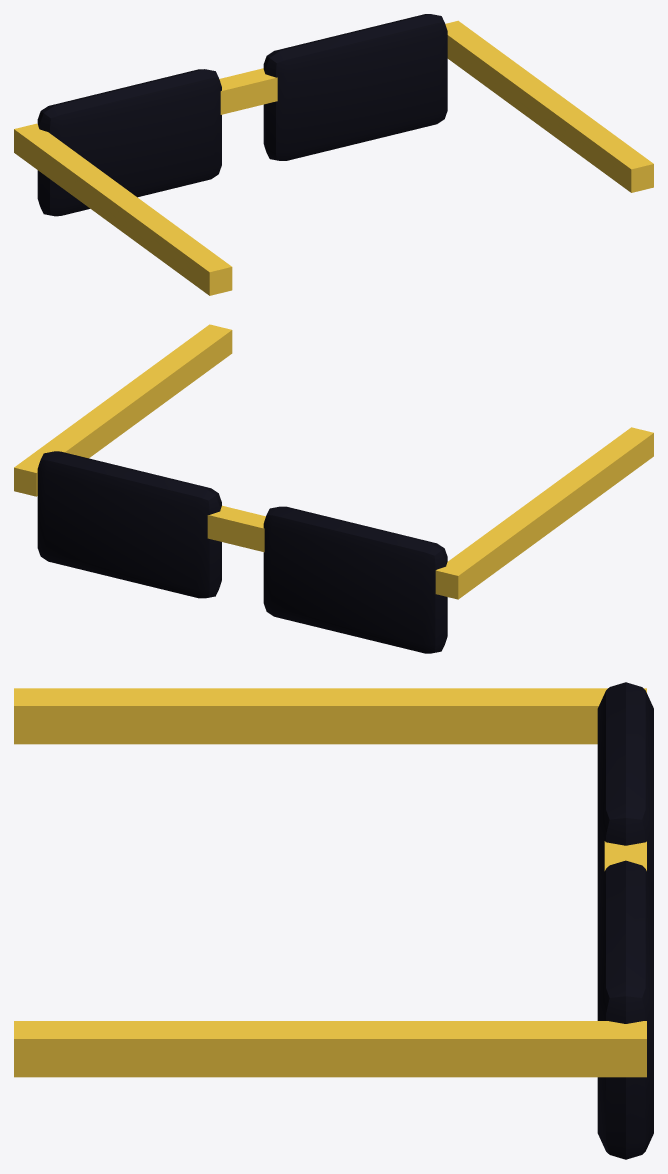
The model's file is AccShades.fbx.
3 views of the same model, one above another, from view 1: azimuth 30°, elevation 25°; view 2: azimuth 150°, elevation 25°; view 3: azimuth 270°, elevation 25° (orthographic). The views are drawn at different scales.
Visible parts, largest first — view 1: AccShades; view 2: AccShades; view 3: AccShades.
Boxes of the visible parts, bbox=[...] form: AccShades: bbox=[14, 14, 653, 295]; AccShades: bbox=[14, 324, 653, 653]; AccShades: bbox=[14, 682, 653, 1159].
Size of the model in its own units: 118 by 28 by 91.
